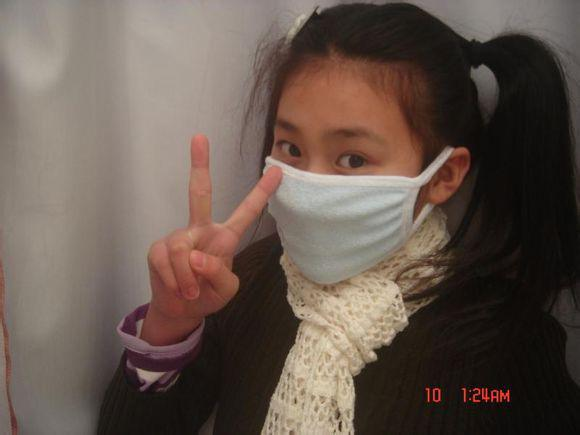OK: (265, 105, 436, 276)
